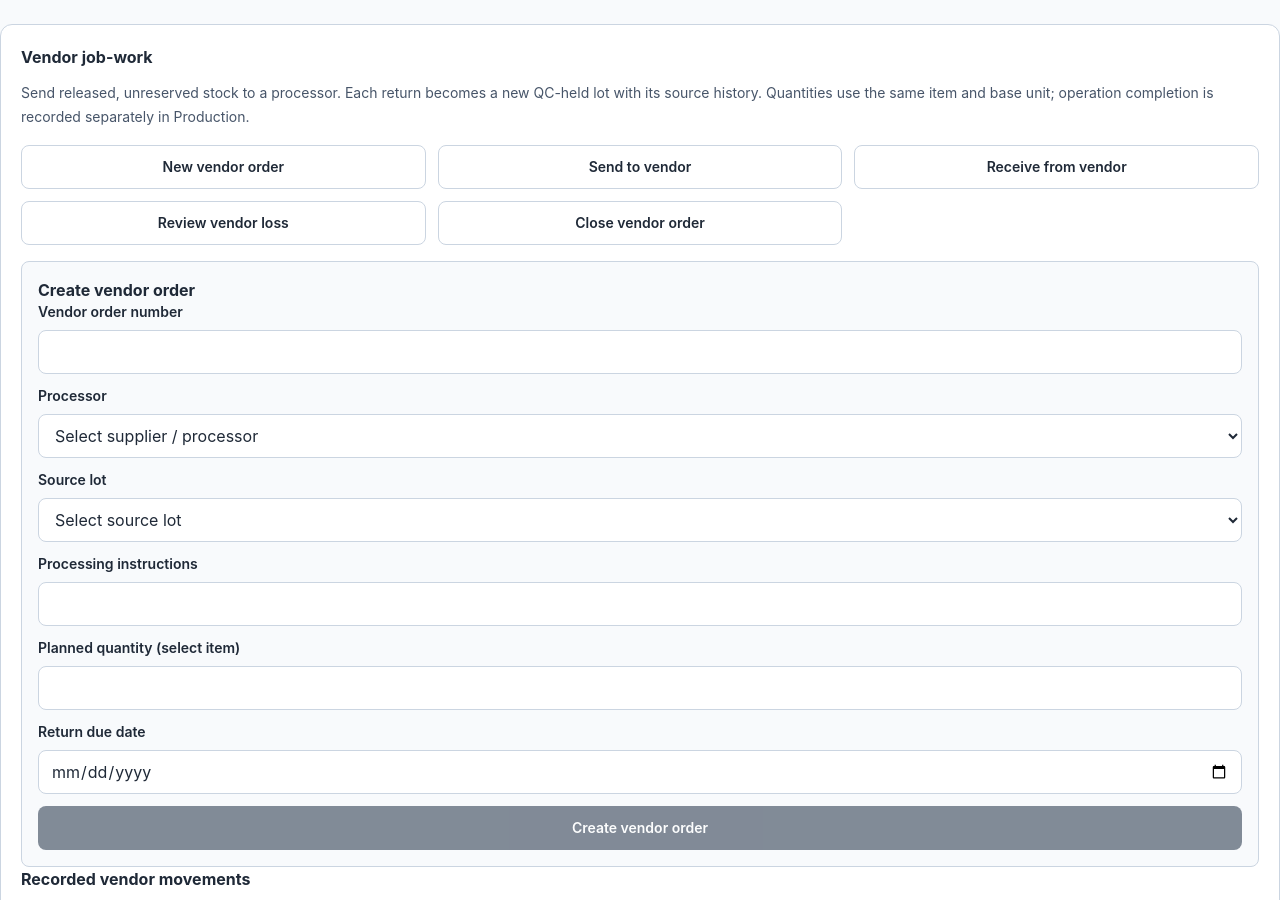
it: shows actual custody and blocks closure with stock still at the vendor
Click the button "Close vendor order" at (640, 223), box [438,201,842,245]
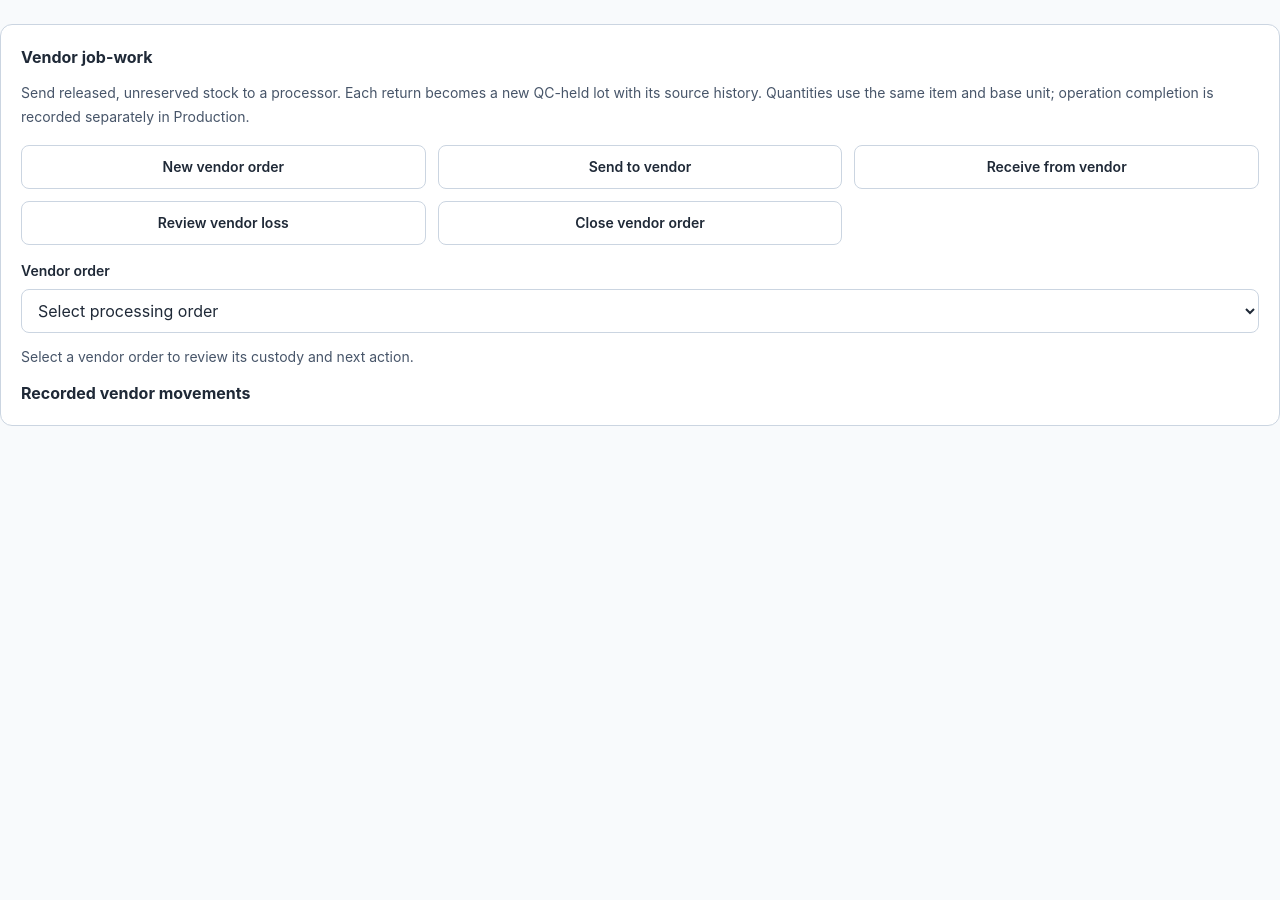
Select "SAMPLE-VENDOR · SAMPLE finish · open" in the dropdown labelled "Vendor order" at (640, 311), box [21,289,1259,333]
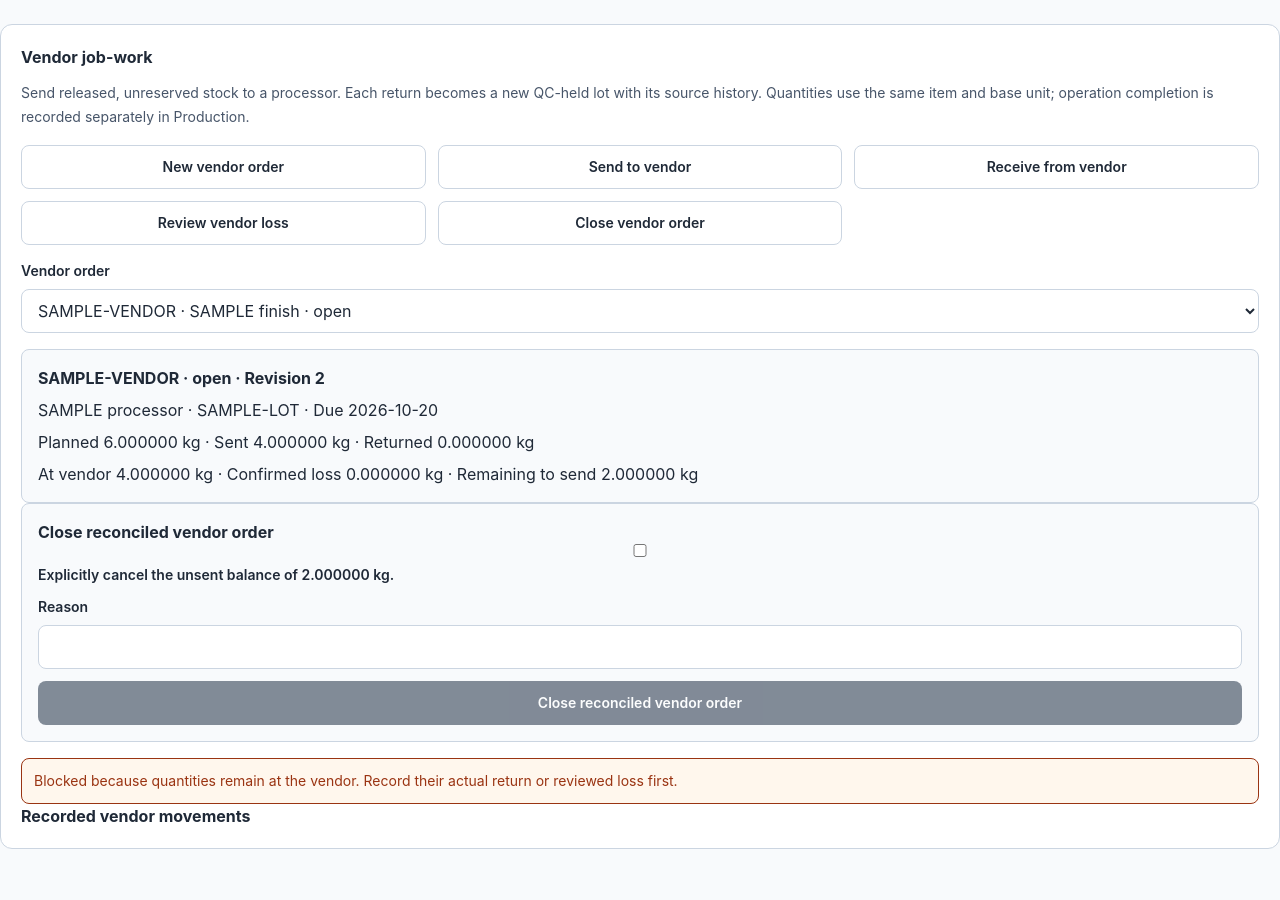
expect the element named "Selected vendor custody" shows "At vendor 4.000000 kg": met, box [21,349,1259,503]
expect the button "Close reconciled vendor order" is disabled: met, box [38,681,1242,725]
expect the text "Blocked because quantities remain at the vendor" is shown: met, box [34,772,678,789]
